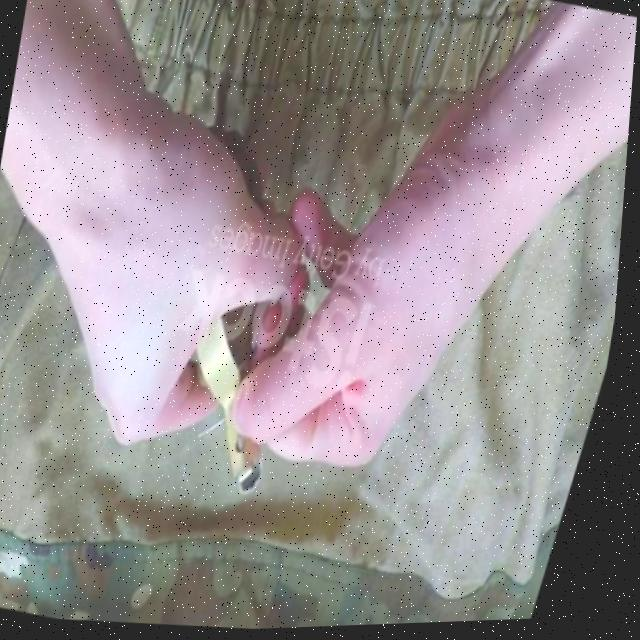grenade: (126, 134, 360, 503)
